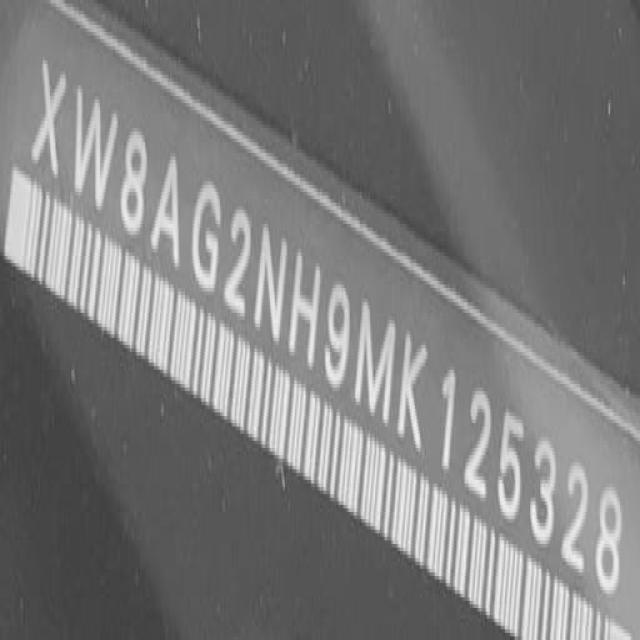1: (432, 352, 458, 485)
2: (457, 374, 496, 509), (558, 453, 594, 586), (220, 198, 254, 330)
3: (524, 430, 560, 560)
5: (494, 414, 526, 534)
8: (593, 476, 630, 612), (115, 124, 152, 248)
9: (322, 276, 352, 396)
A: (148, 145, 188, 275)
G: (187, 170, 227, 305)
H: (284, 242, 324, 377)
K: (393, 323, 432, 462)
M: (351, 292, 397, 436)
N: (253, 216, 293, 360)
W: (70, 76, 120, 223)
X: (26, 53, 73, 191)
